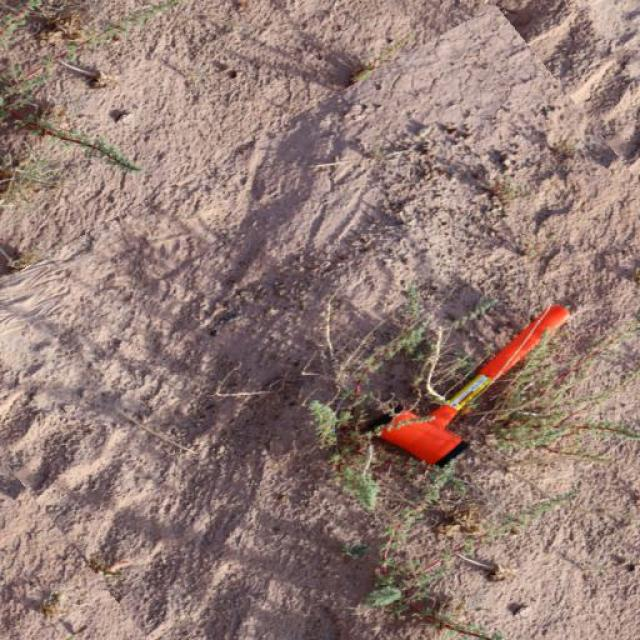mallet: (368, 302, 570, 466)
